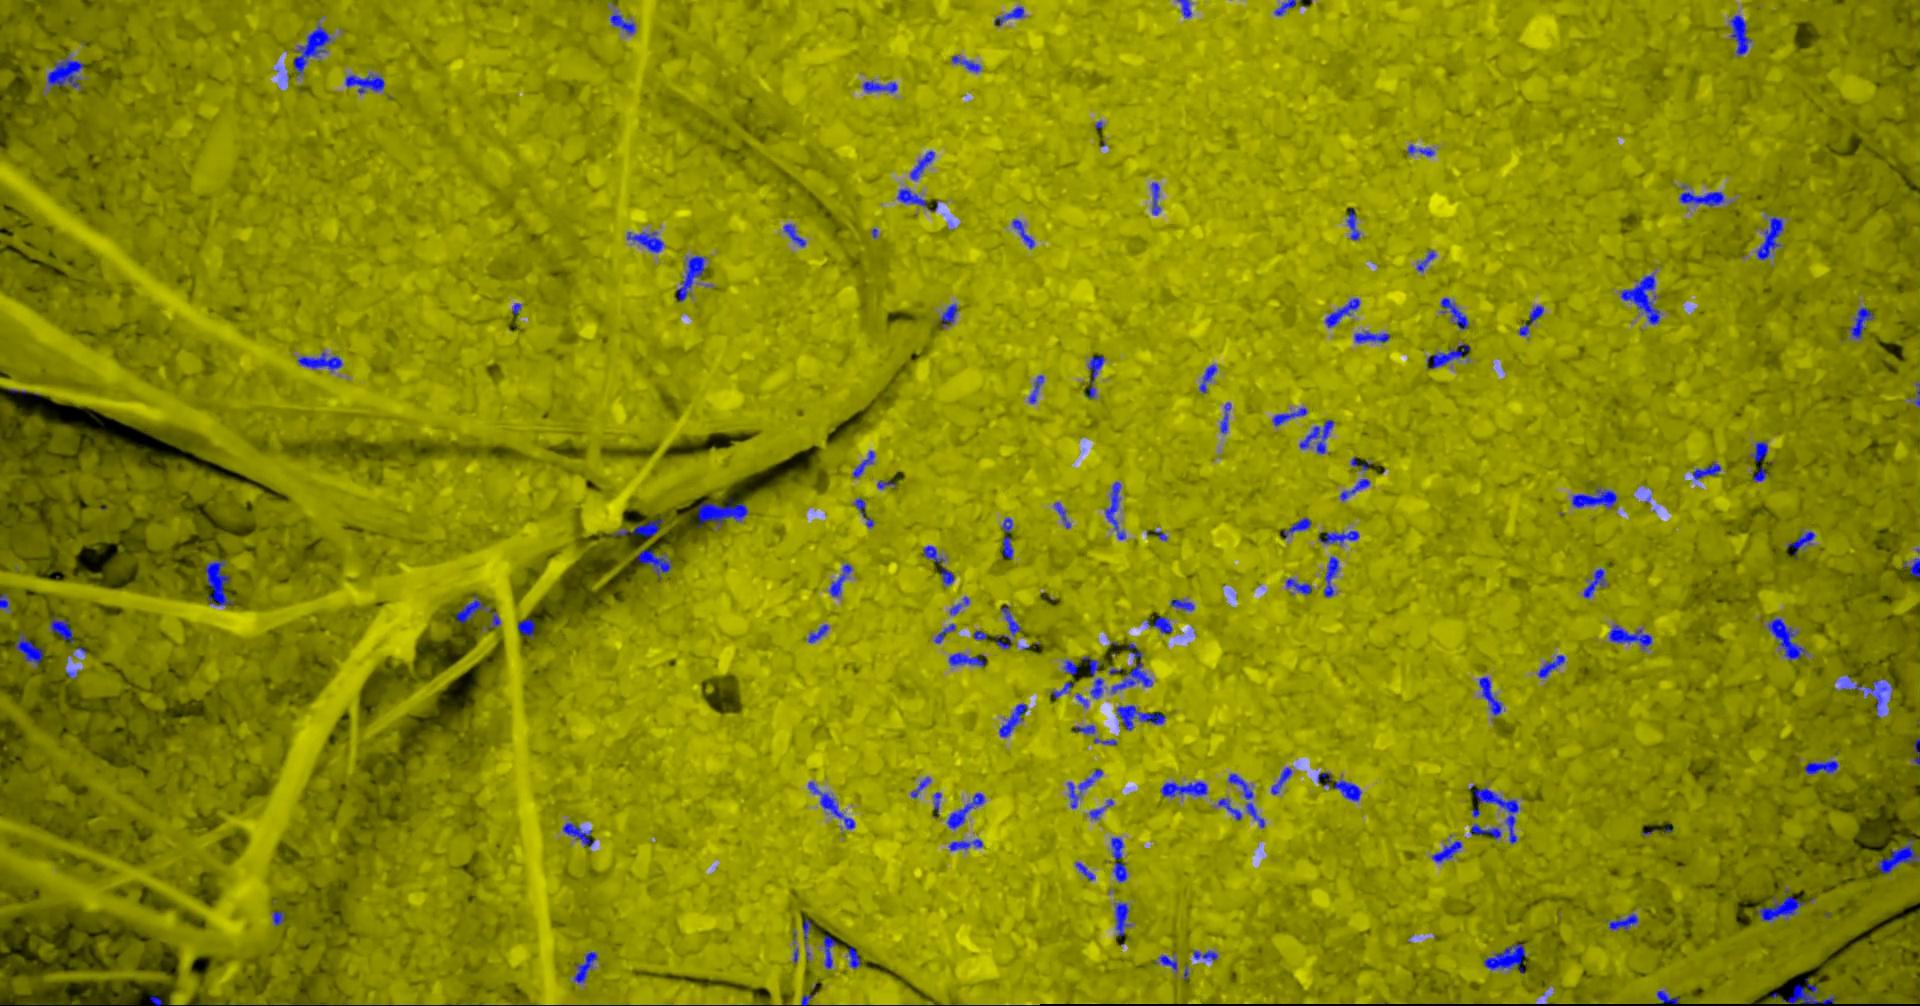ant: (1470, 784, 1520, 843), (809, 781, 856, 829), (1112, 643, 1154, 694), (1229, 774, 1266, 827), (1622, 274, 1661, 324), (295, 24, 333, 74), (1769, 617, 1808, 661), (1757, 888, 1806, 921), (1783, 977, 1836, 1005), (698, 498, 749, 527), (1877, 840, 1920, 873), (949, 793, 985, 829), (1069, 768, 1103, 808), (678, 255, 707, 301), (206, 559, 235, 605), (1117, 704, 1167, 730), (1484, 942, 1528, 973), (924, 545, 956, 586), (48, 55, 85, 89), (1319, 772, 1363, 801), (1106, 481, 1128, 539), (1757, 216, 1785, 259), (1302, 419, 1335, 453), (637, 549, 673, 580), (1864, 680, 1895, 716), (997, 606, 1023, 648), (1610, 624, 1653, 649), (1429, 343, 1470, 368), (1326, 297, 1361, 326), (613, 518, 665, 537), (15, 633, 44, 666), (1001, 702, 1029, 737), (1680, 185, 1726, 206), (1731, 14, 1752, 56), (1573, 486, 1618, 507), (1481, 676, 1503, 715), (1443, 297, 1470, 329), (298, 351, 344, 370), (457, 594, 488, 622), (1788, 530, 1816, 559), (1849, 307, 1876, 338), (347, 72, 386, 93), (1520, 305, 1545, 335), (1088, 354, 1106, 398), (564, 822, 596, 846), (830, 563, 853, 596), (629, 231, 665, 251), (575, 951, 599, 982), (1112, 837, 1129, 882), (1162, 781, 1209, 796), (912, 150, 936, 179), (51, 615, 75, 644), (1341, 478, 1371, 500), (1585, 568, 1608, 598), (1432, 840, 1463, 862), (1274, 406, 1309, 426), (1013, 218, 1036, 248), (1324, 556, 1341, 596), (855, 497, 875, 527), (611, 10, 637, 33), (1539, 654, 1566, 677), (855, 450, 876, 478), (1219, 796, 1243, 821), (996, 6, 1026, 25), (898, 188, 928, 207), (1285, 517, 1312, 539), (1321, 530, 1361, 544), (1090, 798, 1115, 819), (1272, 767, 1293, 794), (785, 224, 808, 246), (1116, 902, 1131, 936), (950, 652, 987, 666), (952, 55, 983, 71), (1470, 823, 1503, 838), (1200, 365, 1218, 392), (1694, 461, 1722, 479), (1804, 760, 1840, 774), (912, 776, 933, 798), (1003, 517, 1015, 558), (935, 622, 957, 643), (863, 79, 899, 91), (1030, 373, 1045, 403), (1610, 913, 1639, 929), (1055, 502, 1072, 528), (1148, 616, 1175, 633), (824, 934, 837, 968), (1349, 207, 1361, 240), (1288, 578, 1313, 594), (1418, 249, 1437, 271), (941, 304, 959, 326), (1355, 330, 1390, 342), (950, 838, 984, 850), (1751, 439, 1769, 461), (809, 624, 830, 641), (1053, 681, 1074, 699), (1083, 655, 1101, 676), (1077, 862, 1097, 880), (1658, 989, 1681, 1005), (1410, 144, 1436, 156), (951, 596, 970, 614), (1161, 951, 1178, 970), (1276, 0, 1298, 15), (1222, 401, 1232, 433), (1091, 677, 1105, 699), (848, 946, 862, 968), (1153, 182, 1162, 215), (1903, 558, 1920, 575), (519, 619, 536, 636), (488, 608, 502, 629), (1172, 598, 1195, 610), (1194, 950, 1219, 960), (1352, 457, 1371, 470), (803, 920, 813, 942), (1178, 0, 1192, 17), (1754, 465, 1768, 481), (1064, 661, 1079, 674), (935, 793, 943, 814), (1073, 725, 1097, 733), (1, 592, 11, 608), (274, 911, 286, 925), (1915, 737, 1920, 765)
